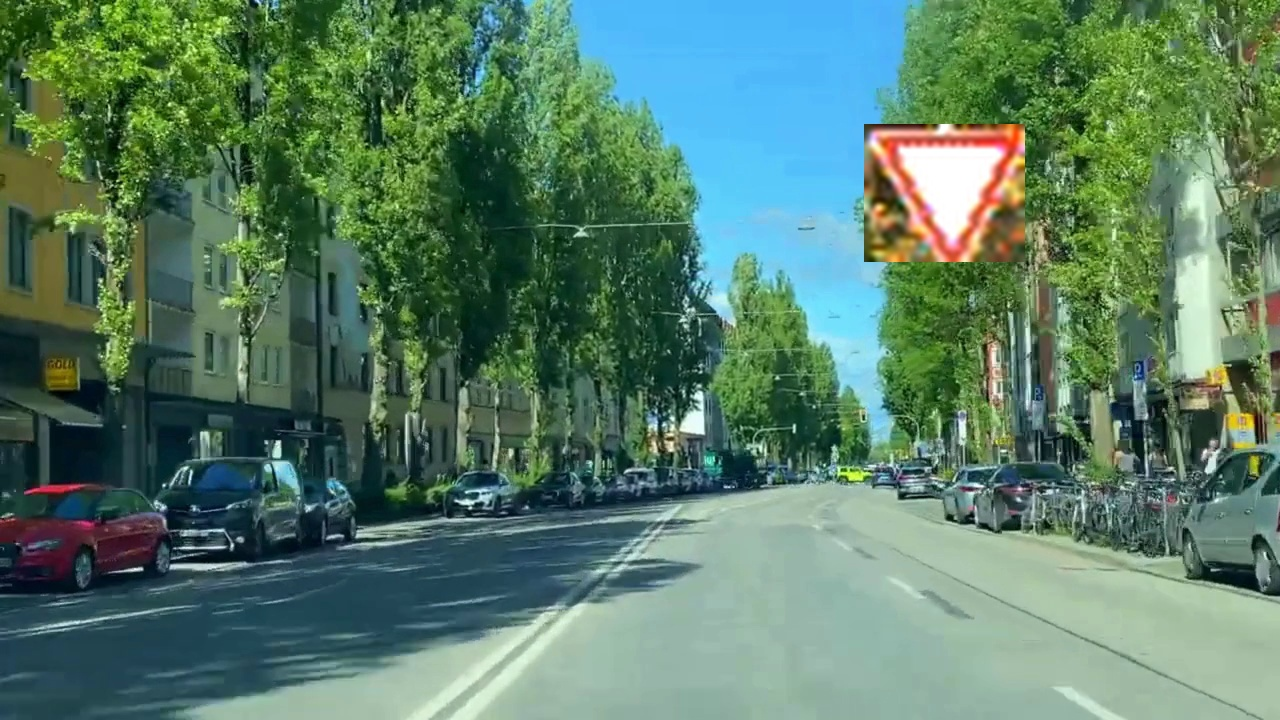Yield: (864, 124, 1025, 262)
